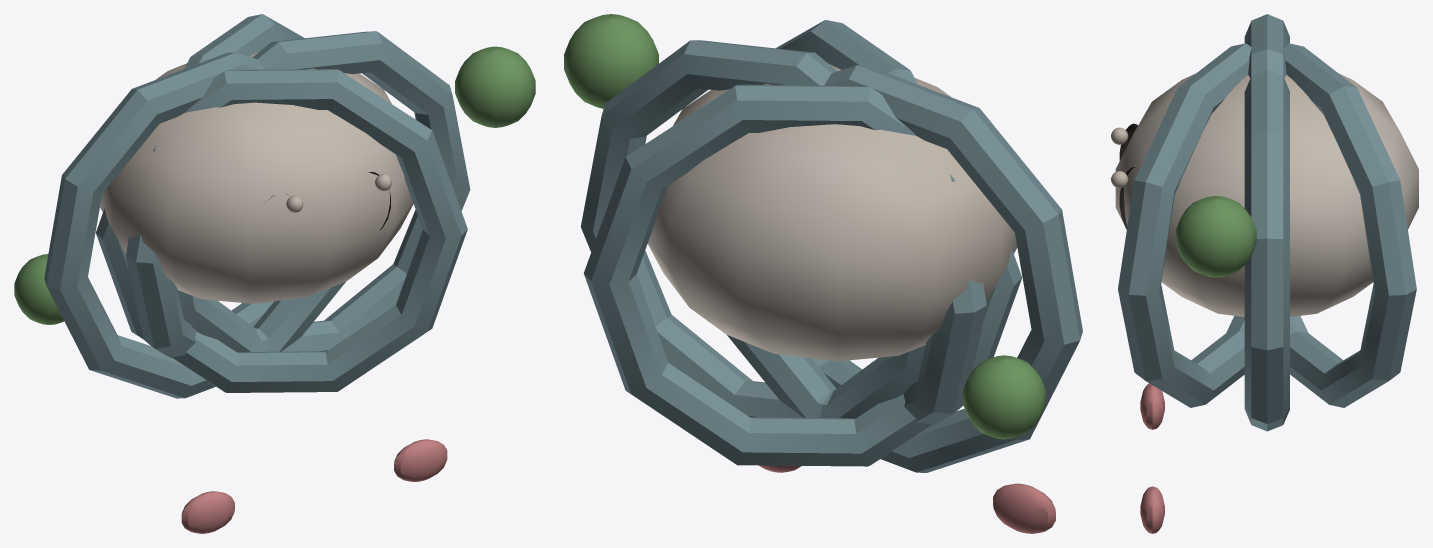
The picture shows the model from 3 angles, left to right: view 1: azimuth 30°, elevation 25°; view 2: azimuth 150°, elevation 25°; view 3: azimuth 270°, elevation 25°; orthographic projection. The views are drawn at different scales.
Visible parts, largest first — view 1: pet_p12242c0d; view 2: pet_p12242c0d; view 3: pet_p12242c0d.
Part boxes in pixels (<box>): pet_p12242c0d: <box>14,14,535,533</box>; pet_p12242c0d: <box>564,14,1082,533</box>; pet_p12242c0d: <box>1111,14,1418,533</box>.
Size of the model in its own units: 0.5174 by 0.4503 by 0.3001.
